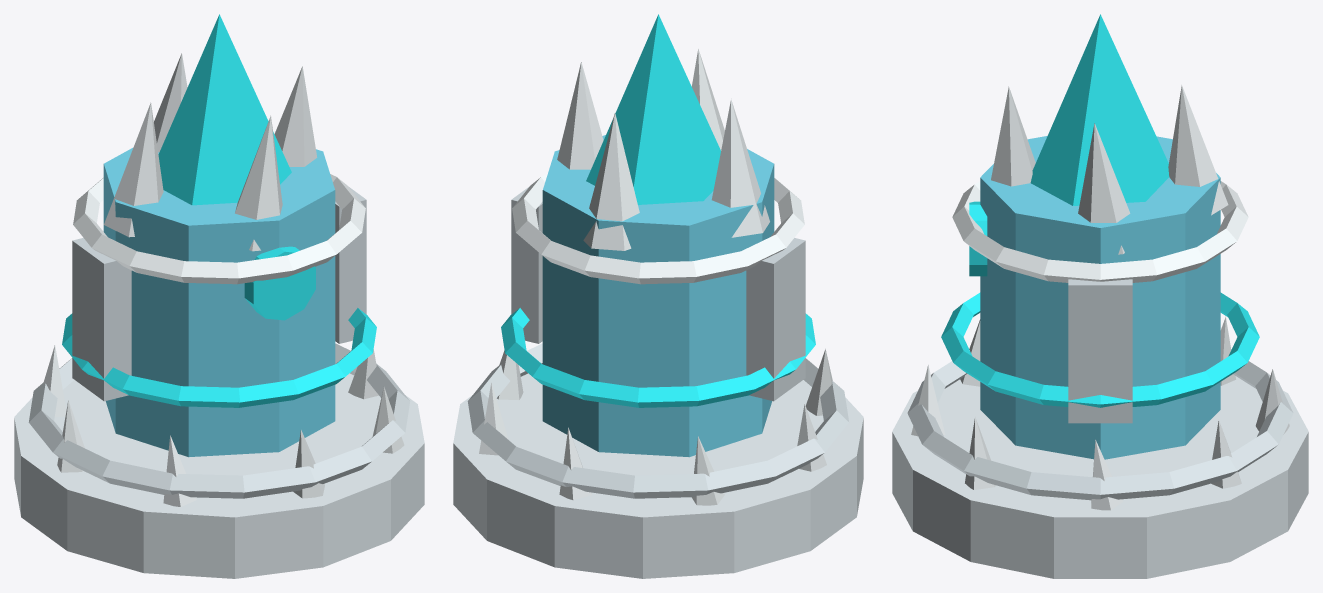
The model's file is TD_SlowTower_T3.fbx.
The picture shows the model from 3 angles, left to right: view 1: azimuth 30°, elevation 25°; view 2: azimuth 150°, elevation 25°; view 3: azimuth 270°, elevation 25°; orthographic projection.
Parts seen in each view (by area): view 1: TD_SlowTower_T3_Base, TD_SlowTower_T3_Body, TD_SlowTower_T3_IceCrystal_Main, TD_SlowTower_T3_SilverBaseRing, TD_SlowTower_T3_UpperFrostRing, TD_SlowTower_T3_SilverBrace_Left, TD_SlowTower_T3_LowerFrostRing, TD_SlowTower_T3_IceCrystal_Outer_02, TD_SlowTower_T3_SilverBrace_Right, TD_SlowTower_T3_CyanCore, TD_SlowTower_T3_IceCrystal_Outer_04, TD_SlowTower_T3_IceCrystal_Outer_01 (+7 smaller); view 2: TD_SlowTower_T3_Body, TD_SlowTower_T3_Base, TD_SlowTower_T3_IceCrystal_Main, TD_SlowTower_T3_SilverBaseRing, TD_SlowTower_T3_UpperFrostRing, TD_SlowTower_T3_SilverBrace_Left, TD_SlowTower_T3_LowerFrostRing, TD_SlowTower_T3_IceCrystal_Outer_03, TD_SlowTower_T3_IceCrystal_Outer_02, TD_SlowTower_T3_SilverBrace_Right, TD_SlowTower_T3_IceCrystal_Outer_01, TD_SlowTower_T3_IceCrystal_Outer_04 (+6 smaller); view 3: TD_SlowTower_T3_Base, TD_SlowTower_T3_Body, TD_SlowTower_T3_IceCrystal_Main, TD_SlowTower_T3_SilverBaseRing, TD_SlowTower_T3_SilverBrace_Right, TD_SlowTower_T3_LowerFrostRing, TD_SlowTower_T3_UpperFrostRing, TD_SlowTower_T3_IceCrystal_Outer_03, TD_SlowTower_T3_IceCrystal_Outer_01, TD_SlowTower_T3_IceCrystal_Outer_04, TD_SlowTower_T3_CyanCore, TD_SlowTower_T3_IceSpike_08 (+4 smaller).
Boxes of the visible parts, x1,y1,x2,y2 form: TD_SlowTower_T3_Base: (14,373,424,578); TD_SlowTower_T3_Body: (103,148,335,457); TD_SlowTower_T3_IceCrystal_Main: (158,14,291,205); TD_SlowTower_T3_SilverBaseRing: (28,343,410,498); TD_SlowTower_T3_UpperFrostRing: (73,174,365,284); TD_SlowTower_T3_SilverBrace_Left: (72,238,131,401); TD_SlowTower_T3_LowerFrostRing: (62,308,376,407); TD_SlowTower_T3_IceCrystal_Outer_02: (104,102,163,237); TD_SlowTower_T3_SilverBrace_Right: (335,186,366,343); TD_SlowTower_T3_CyanCore: (244,246,315,320); TD_SlowTower_T3_IceCrystal_Outer_04: (235,115,282,251); TD_SlowTower_T3_IceCrystal_Outer_01: (274,66,317,166); TD_SlowTower_T3_Body: (542,135,774,457); TD_SlowTower_T3_Base: (453,373,863,578); TD_SlowTower_T3_IceCrystal_Main: (586,14,720,204); TD_SlowTower_T3_SilverBaseRing: (467,343,849,498); TD_SlowTower_T3_UpperFrostRing: (512,174,804,284); TD_SlowTower_T3_SilverBrace_Left: (746,238,805,401); TD_SlowTower_T3_LowerFrostRing: (501,308,815,407); TD_SlowTower_T3_IceCrystal_Outer_03: (583,113,639,250); TD_SlowTower_T3_IceCrystal_Outer_02: (711,99,769,237); TD_SlowTower_T3_SilverBrace_Right: (511,186,542,343); TD_SlowTower_T3_IceCrystal_Outer_01: (557,62,603,169); TD_SlowTower_T3_IceCrystal_Outer_04: (691,49,724,150); TD_SlowTower_T3_Base: (892,376,1308,578); TD_SlowTower_T3_Body: (980,136,1220,459); TD_SlowTower_T3_IceCrystal_Main: (1030,14,1169,205); TD_SlowTower_T3_SilverBaseRing: (907,350,1293,500); TD_SlowTower_T3_SilverBrace_Right: (1068,279,1132,423); TD_SlowTower_T3_LowerFrostRing: (941,292,1259,407); TD_SlowTower_T3_UpperFrostRing: (952,181,1248,282); TD_SlowTower_T3_IceCrystal_Outer_03: (1168,85,1228,215); TD_SlowTower_T3_IceCrystal_Outer_01: (1078,123,1130,254); TD_SlowTower_T3_IceCrystal_Outer_04: (991,86,1035,186); TD_SlowTower_T3_CyanCore: (969,201,987,276); TD_SlowTower_T3_IceSpike_08: (965,416,995,489).
Size of the model in its own units: 1.01 by 1.32 by 1.04.
